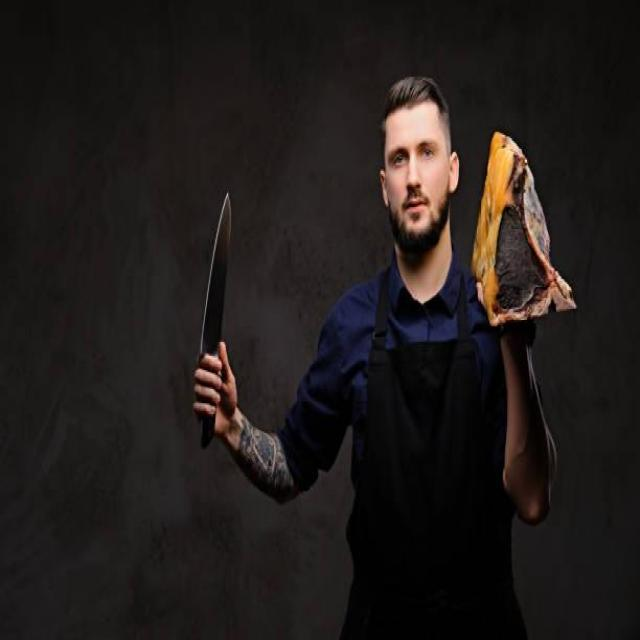faca: (188, 171, 246, 469)
